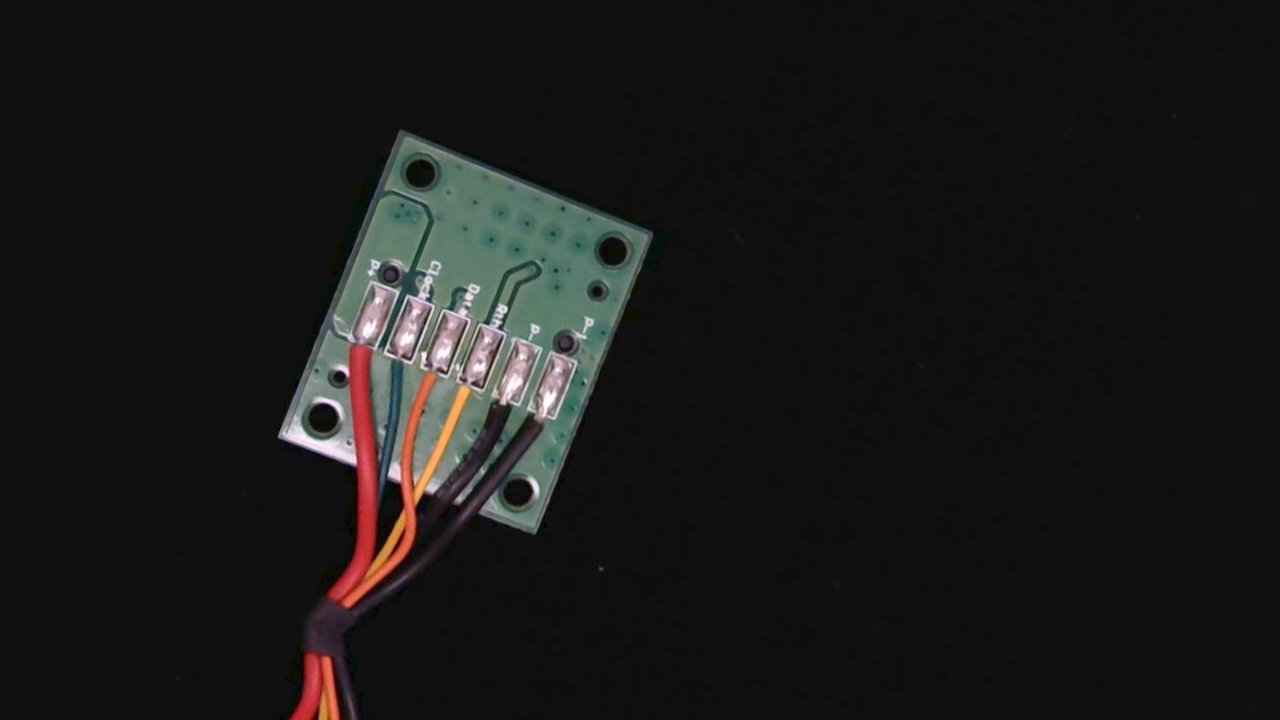Black: (471, 373, 529, 454)
Black1: (509, 390, 563, 464)
Green: (368, 327, 424, 404)
Orange: (400, 347, 454, 426)
Red: (332, 316, 388, 394)
Yellow: (435, 362, 492, 443)
